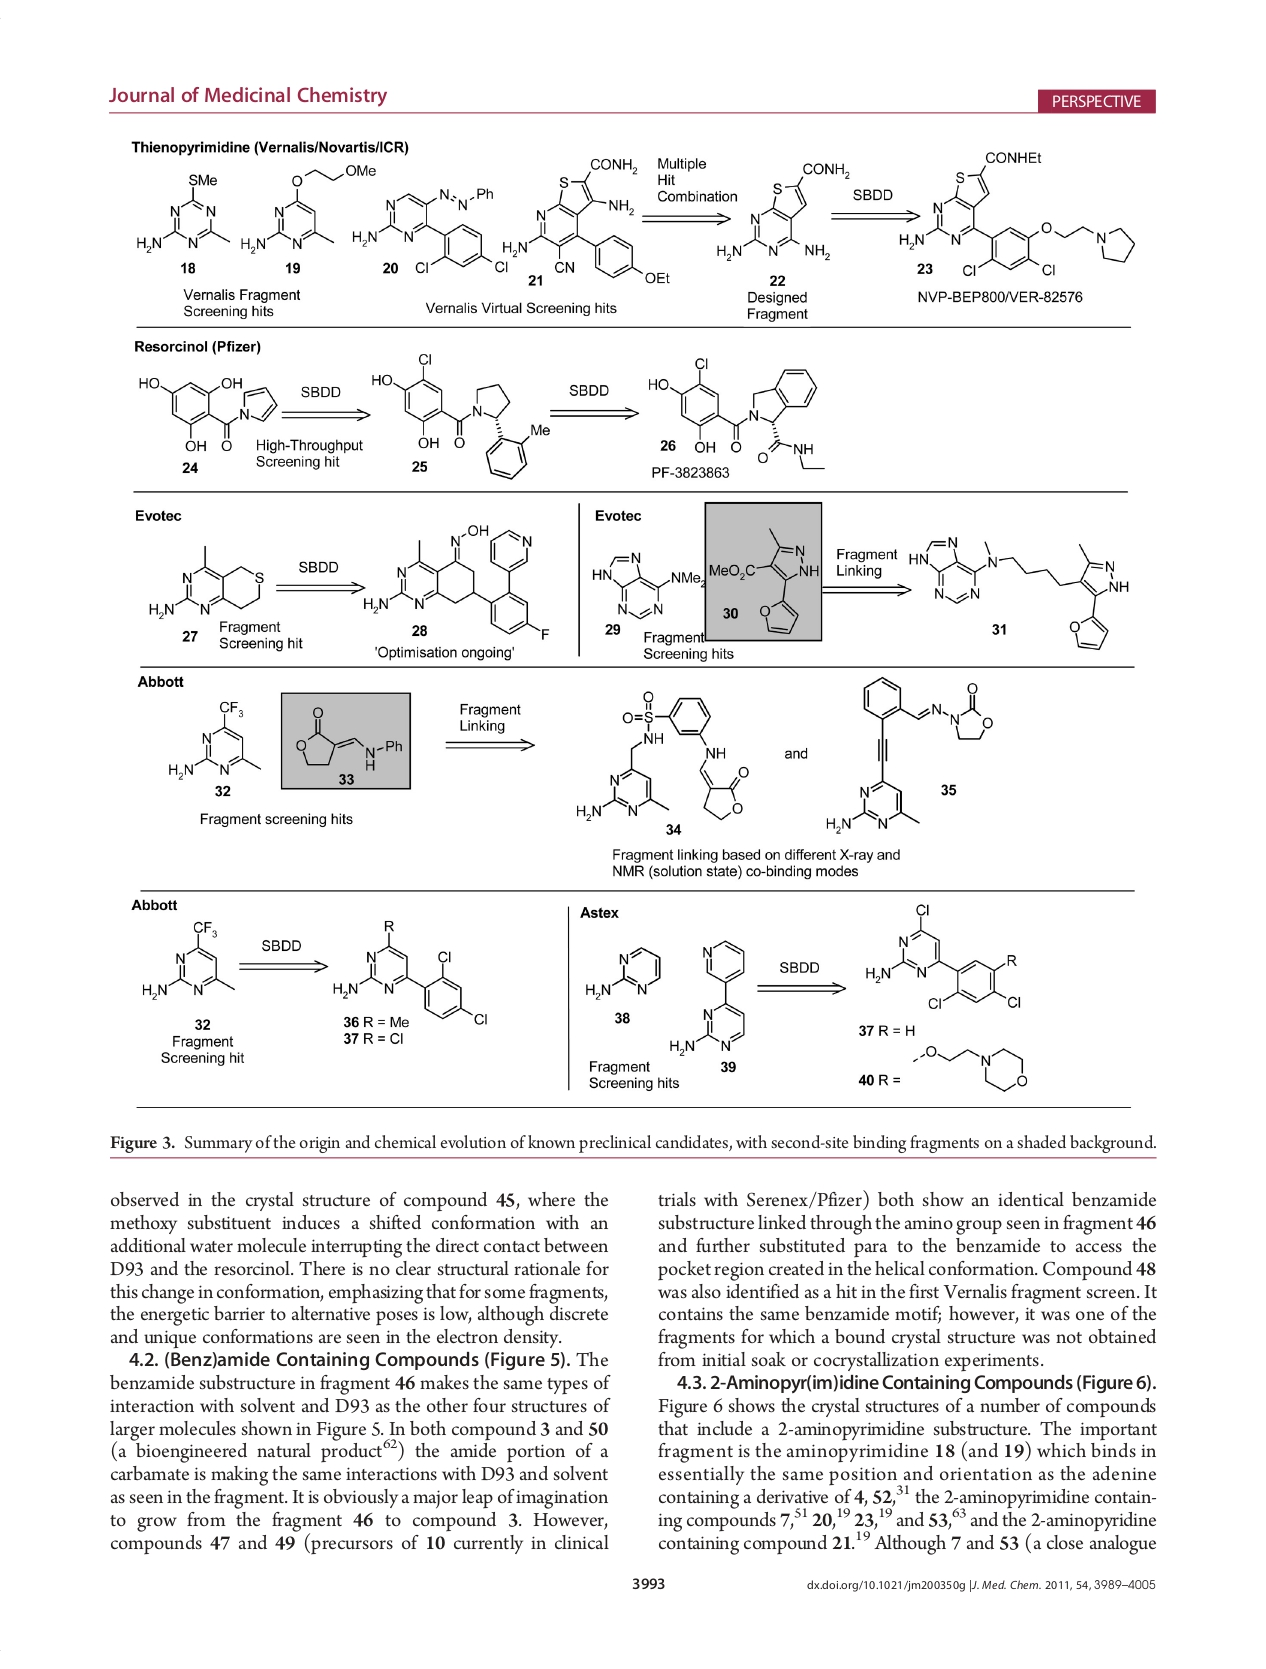exist_molecular: (896, 149, 1137, 277), (822, 674, 996, 834), (906, 535, 1132, 656), (573, 686, 749, 826), (368, 351, 551, 483), (362, 520, 552, 644), (497, 156, 673, 289), (648, 356, 830, 472), (330, 918, 489, 1029), (864, 903, 1023, 1013), (350, 180, 512, 277), (714, 158, 850, 261), (238, 164, 376, 255), (706, 523, 819, 634), (134, 371, 279, 455), (145, 543, 269, 621), (669, 938, 747, 1057), (161, 696, 265, 781), (589, 547, 707, 621), (138, 918, 239, 1001), (134, 169, 231, 254), (293, 705, 404, 771), (908, 1043, 1035, 1096), (582, 942, 666, 1003)
